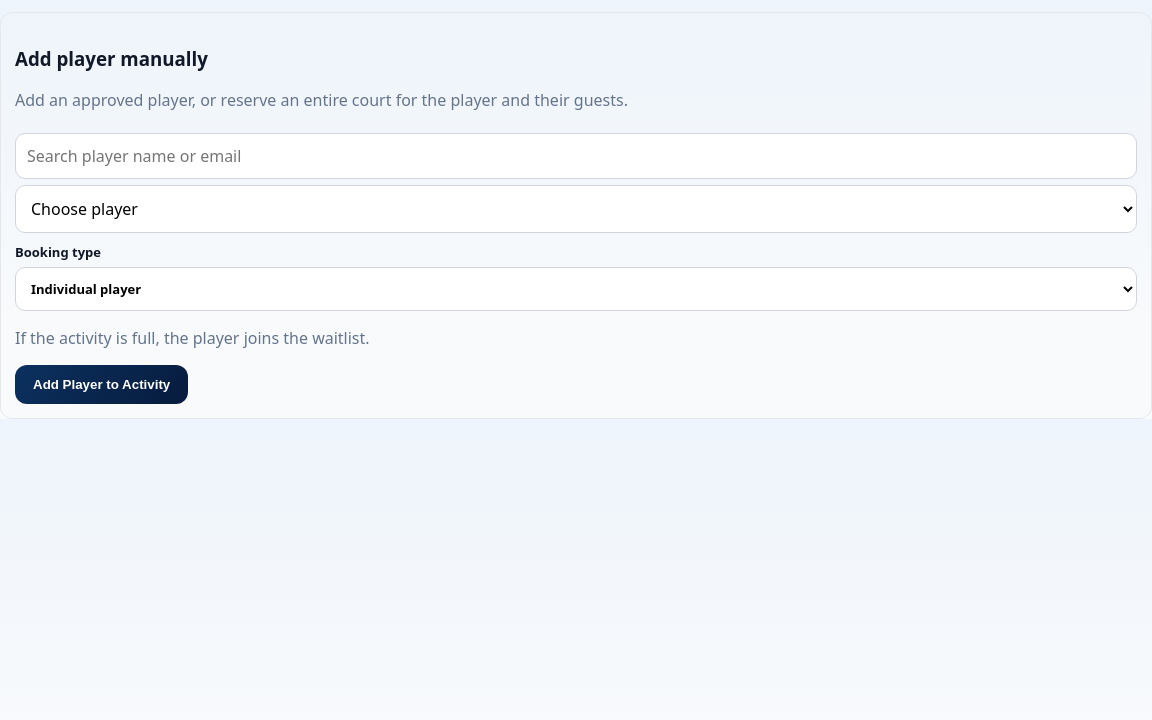
Test: manual activity additions › keeps the selection and shows the server conflict when a court already has players
Type "Ankit" into the field labelled "Search player name or email" at {"x": 576, "y": 156}, box [15,133,1137,179]
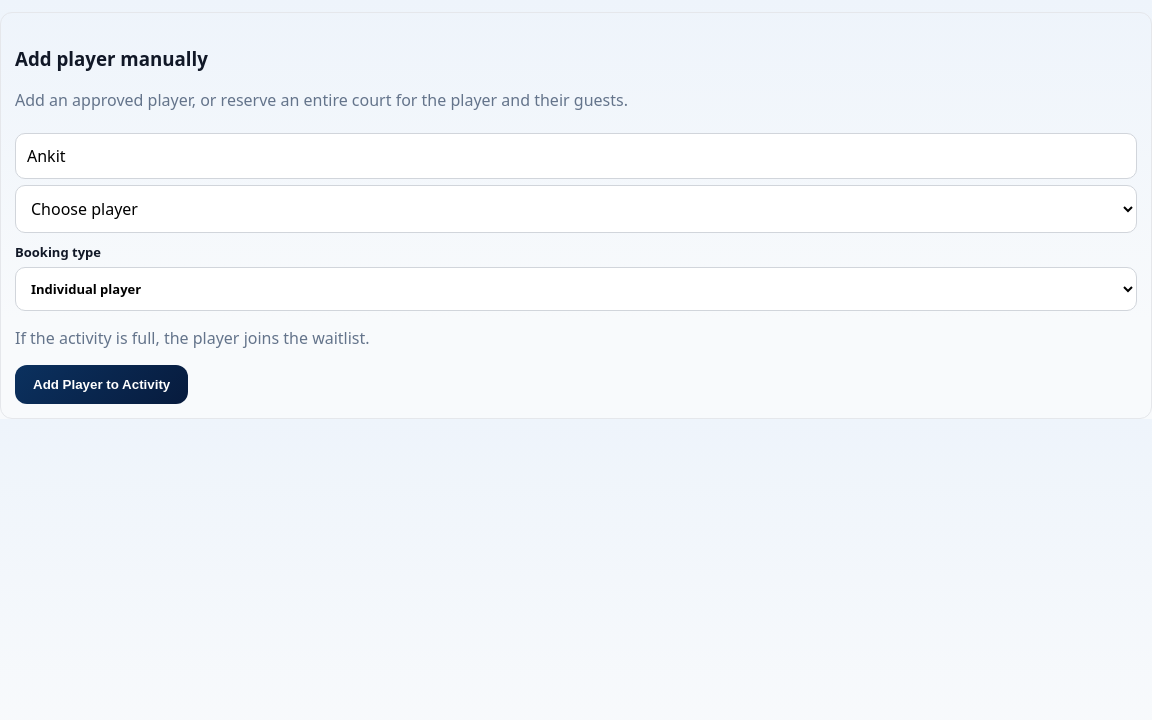
Select "Ankit · ankit@example.com" in the dropdown named "Select player to add" at {"x": 576, "y": 209}, box [15,185,1137,233]
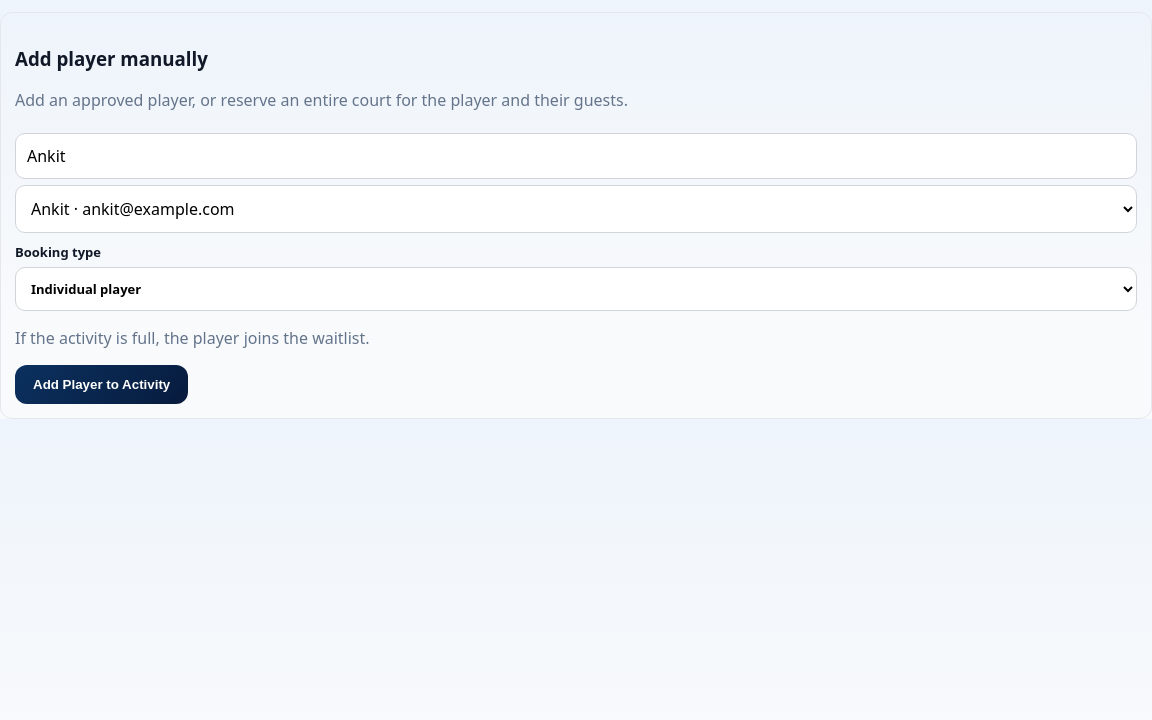
Select "Entire court — player + guests" in the dropdown labelled "Booking type" at {"x": 576, "y": 289}, box [15,267,1137,311]
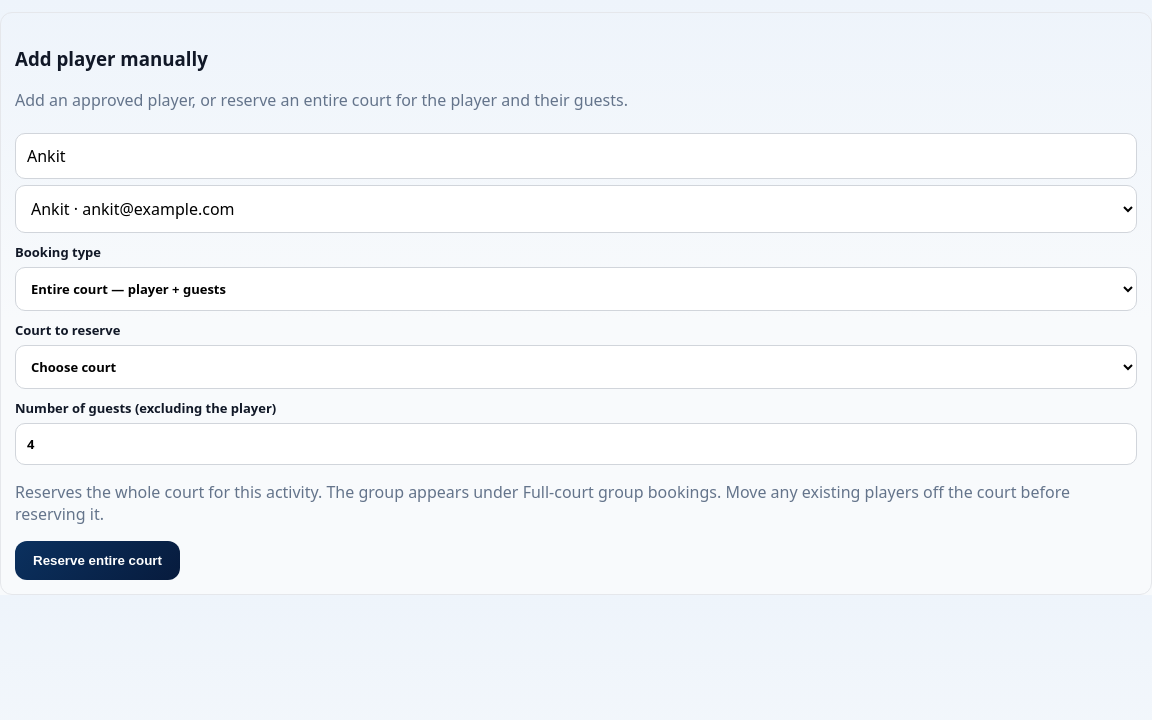
Select "Court 2" in the dropdown labelled "Court to reserve" at {"x": 576, "y": 367}, box [15,345,1137,389]
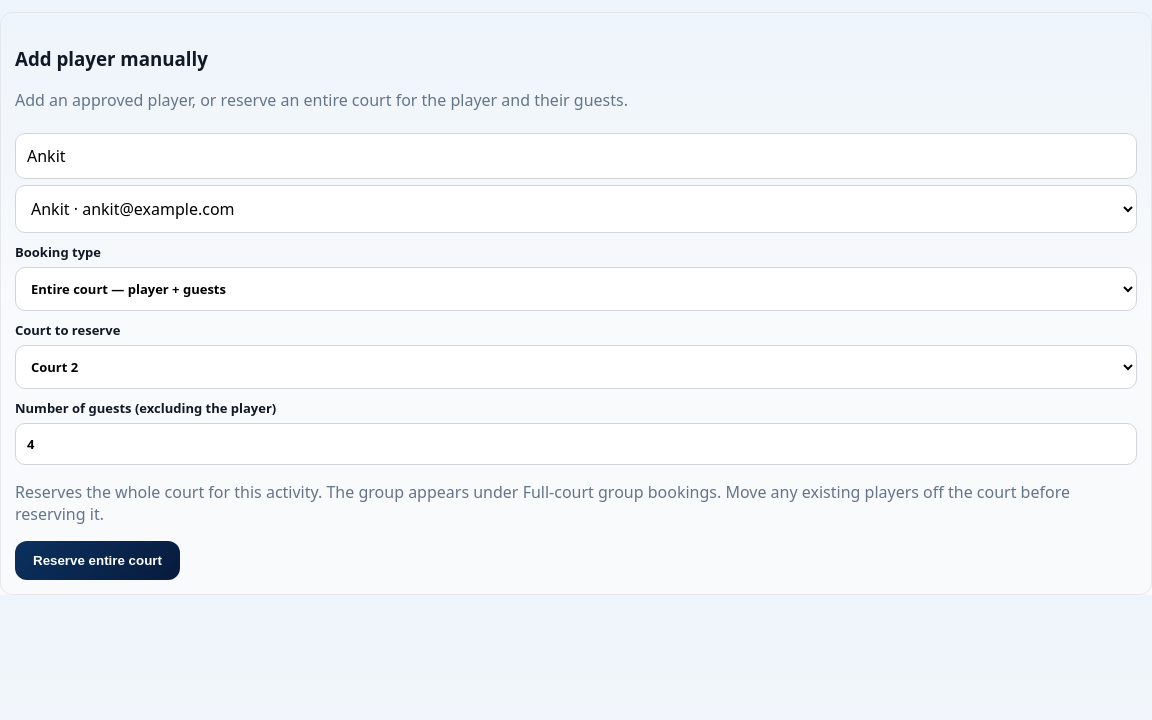
Click the button "Reserve entire court" at {"x": 97, "y": 561}, box [15,541,180,580]
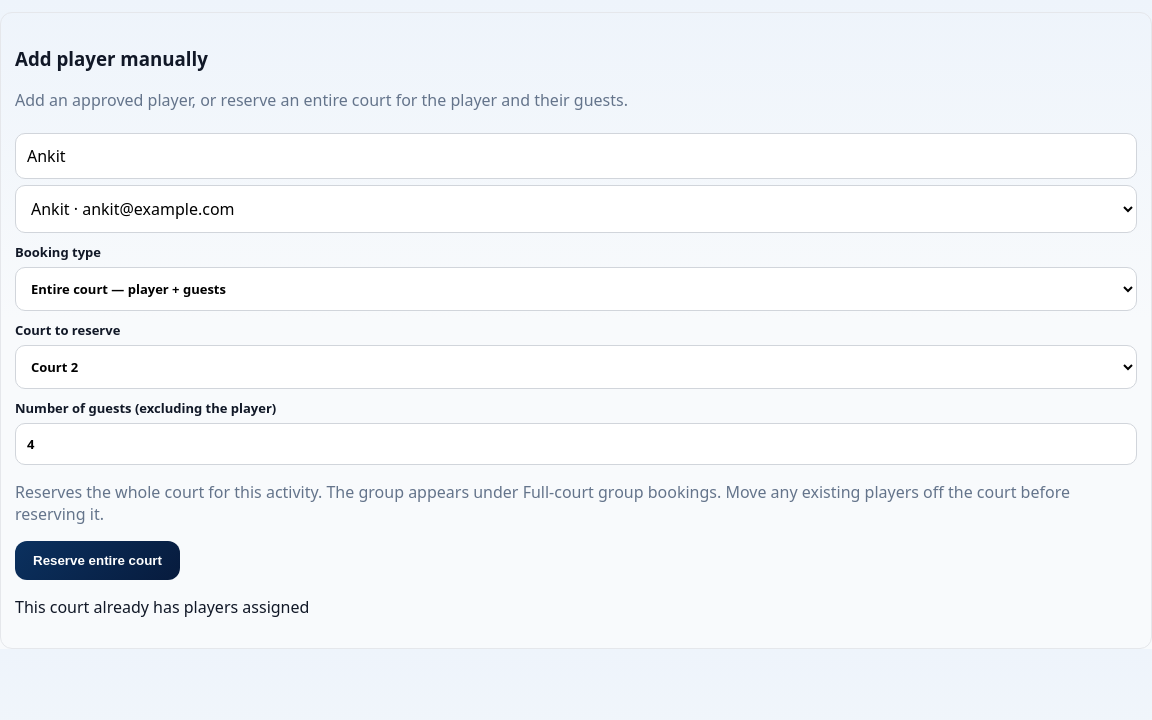
Result: the message shows "already has players" at [15,596,309,618]
